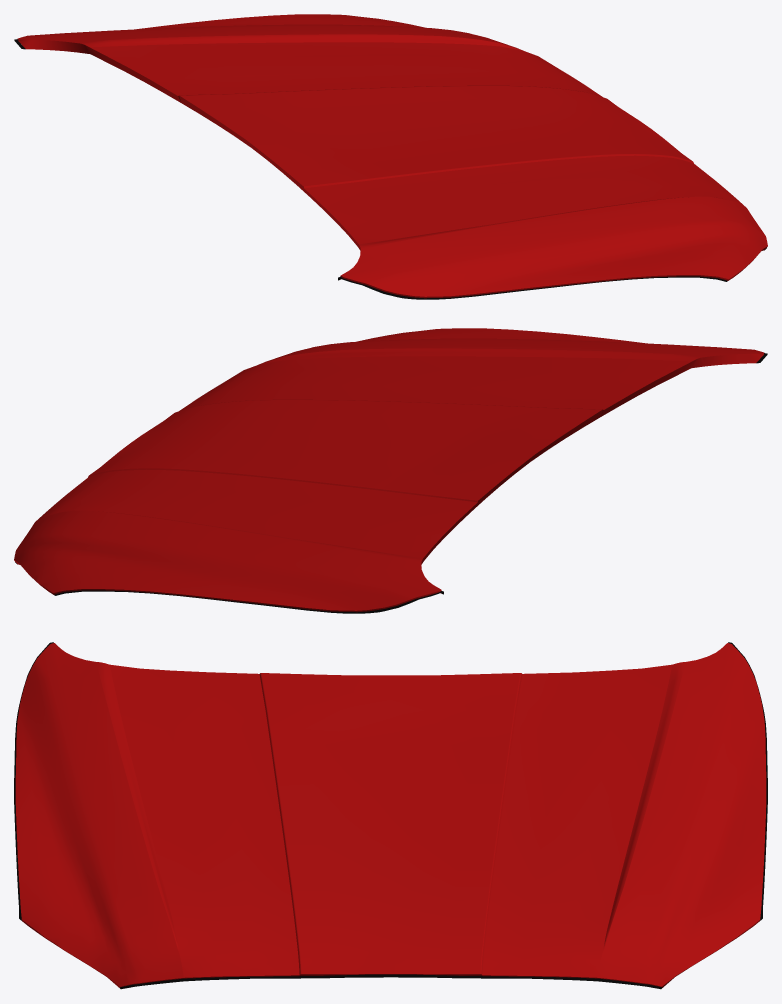
3 renders of one model, top to bottom at view 1: azimuth 30°, elevation 25°; view 2: azimuth 150°, elevation 25°; view 3: azimuth 270°, elevation 25°, orthographic. The views are drawn at different scales.
Visible parts, largest first — view 1: Y175_18_101B_C_Y175_18_101B_C_1_DaS, Y175_18_101B_C_Y175_18_101B_C_1_DaS_E, Y175_18_101B_C_2_D_Y175_18_101B_C; view 2: Y175_18_101B_C_Y175_18_101B_C_1_DaS, Y175_18_101B_C_Y175_18_101B_C_1_DaS_E, Y175_18_101B_C_2_D_Y175_18_101B_C; view 3: Y175_18_101B_C_Y175_18_101B_C_1_DaS, Y175_18_101B_C_Y175_18_101B_C_1_DaS_E, Y175_18_101B_C_2_D_Y175_18_101B_C.
Boxes of the visible parts, x1,y1,x2,y2 form: Y175_18_101B_C_Y175_18_101B_C_1_DaS: [18, 14, 767, 296]; Y175_18_101B_C_Y175_18_101B_C_1_DaS_E: [17, 34, 767, 298]; Y175_18_101B_C_2_D_Y175_18_101B_C: [14, 39, 766, 299]; Y175_18_101B_C_Y175_18_101B_C_1_DaS: [14, 328, 763, 610]; Y175_18_101B_C_Y175_18_101B_C_1_DaS_E: [14, 348, 764, 612]; Y175_18_101B_C_2_D_Y175_18_101B_C: [15, 353, 767, 613]; Y175_18_101B_C_Y175_18_101B_C_1_DaS: [15, 643, 766, 986]; Y175_18_101B_C_Y175_18_101B_C_1_DaS_E: [22, 662, 759, 987]; Y175_18_101B_C_2_D_Y175_18_101B_C: [14, 642, 767, 989].
Size of the model in its own units: 123 by 27.52 by 161.
